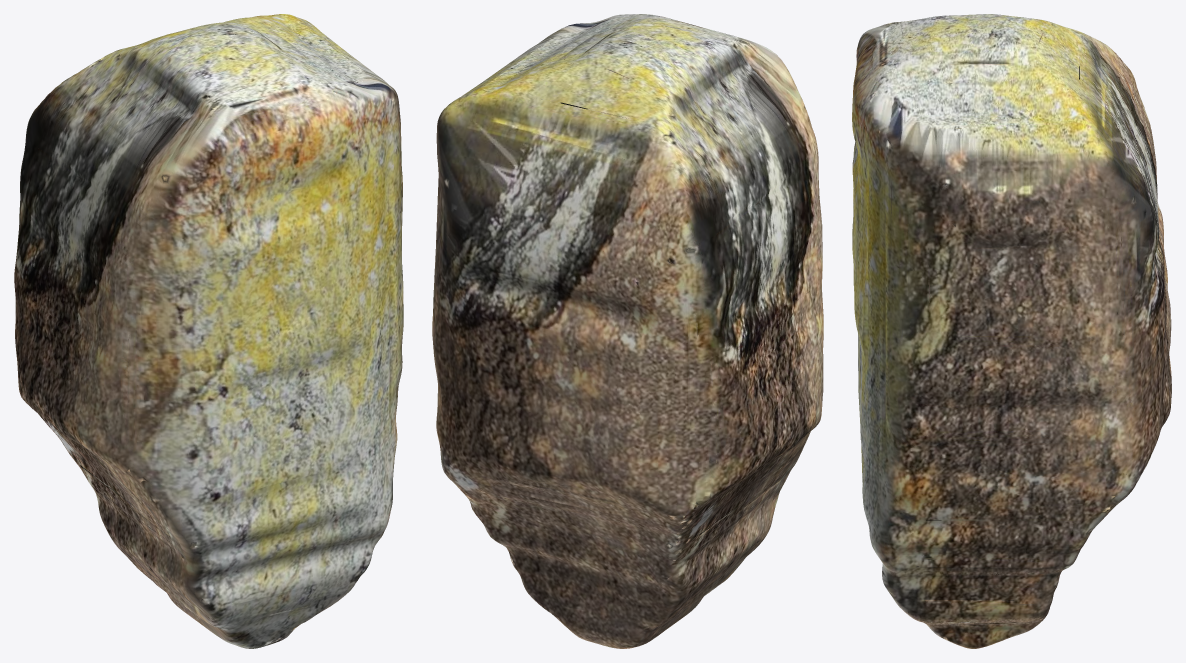
Rendered from 02oclock.glb.
3 renders of one model, left to right at view 1: azimuth 30°, elevation 25°; view 2: azimuth 150°, elevation 25°; view 3: azimuth 270°, elevation 25°, orthographic.
Visible parts, largest first — view 1: Rock; view 2: Rock; view 3: Rock.
Boxes of the visible parts, x1,y1,x2,y2 form: Rock: (14,14,403,648); Rock: (432,14,823,648); Rock: (852,14,1171,648).
Bounding box in the file's own units: 0.5925 × 1.06 × 0.5098.
1 material, 1 textured.
